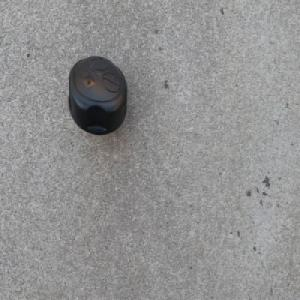FuelCap: (66, 54, 128, 139)
